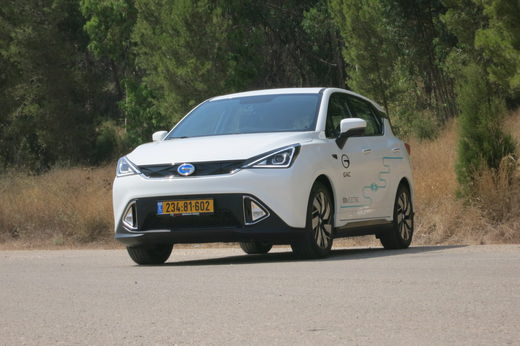licence: (157, 197, 215, 215)
